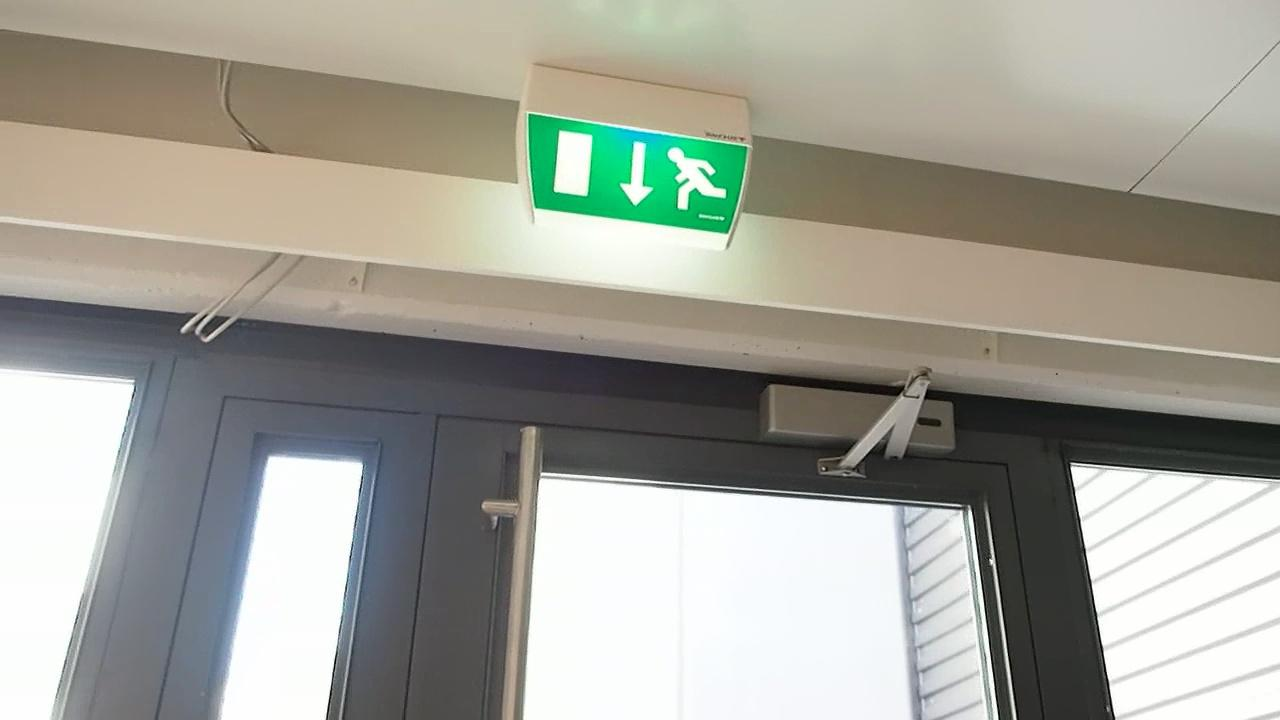exit: (523, 115, 752, 236)
